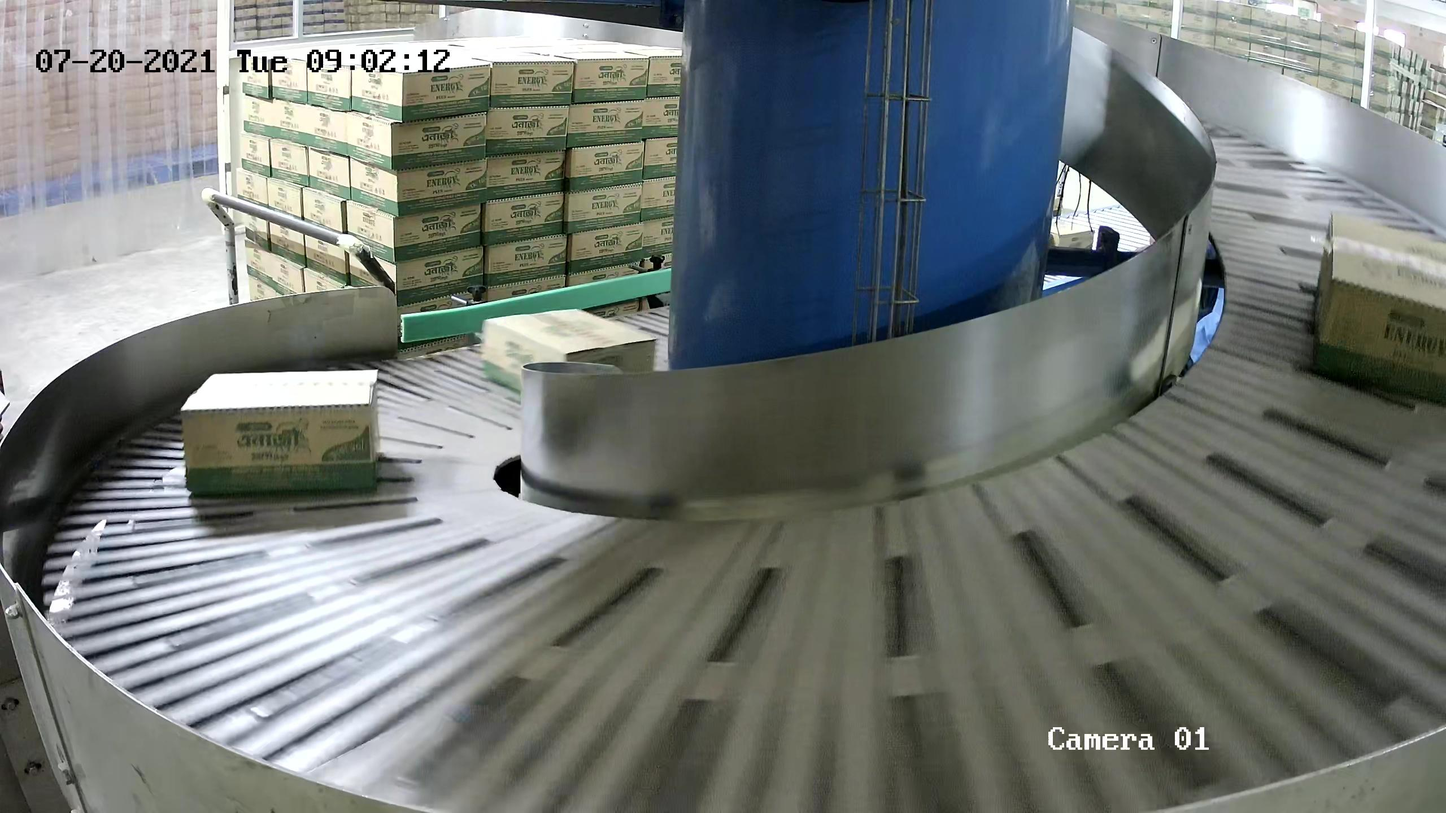Box: (1309, 209, 1446, 410), (180, 368, 385, 497), (482, 308, 657, 402)
